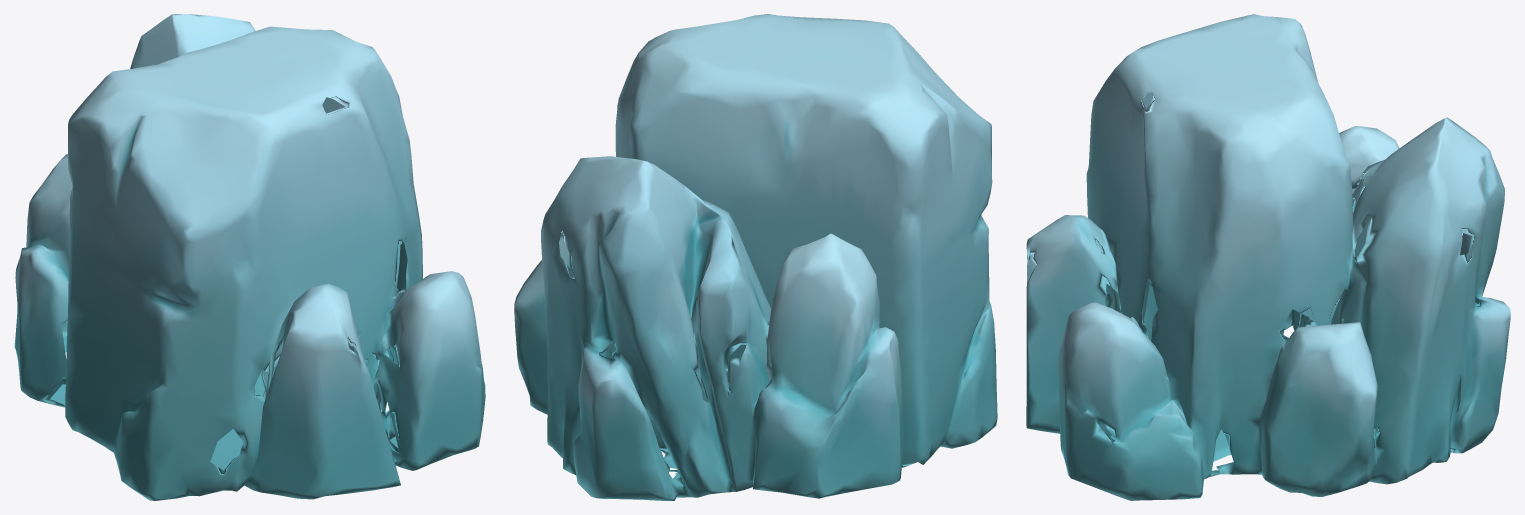
The model's file is led-glyba-granenaya.glb.
3 views of the same model, side by side, from view 1: azimuth 30°, elevation 25°; view 2: azimuth 150°, elevation 25°; view 3: azimuth 270°, elevation 25° (orthographic). The views are drawn at different scales.
Visible parts, largest first — view 1: geometry_0; view 2: geometry_0; view 3: geometry_0.
Part boxes in pixels (x1,y1,x2,y2): geometry_0: [14, 14, 485, 500]; geometry_0: [514, 14, 997, 500]; geometry_0: [1026, 14, 1510, 500].
Bounding box in the file's own units: 0.8554 × 0.8049 × 0.9982.
Materials: 1 (1 with a texture image).
